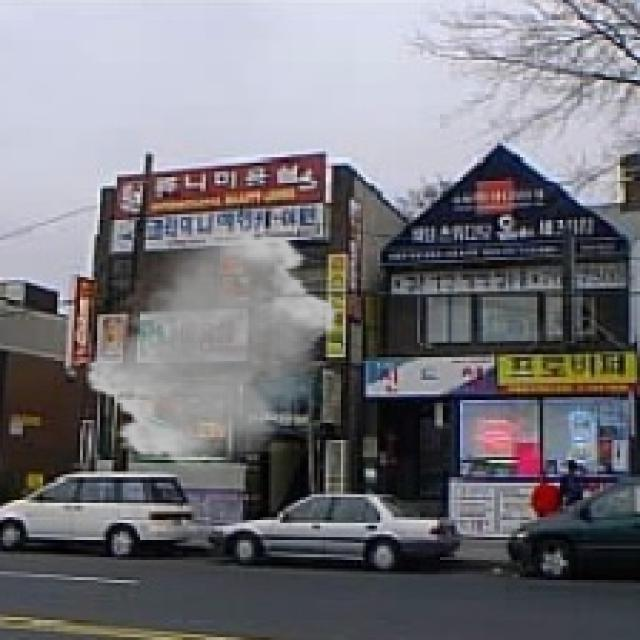smoke: (83, 220, 340, 471)
